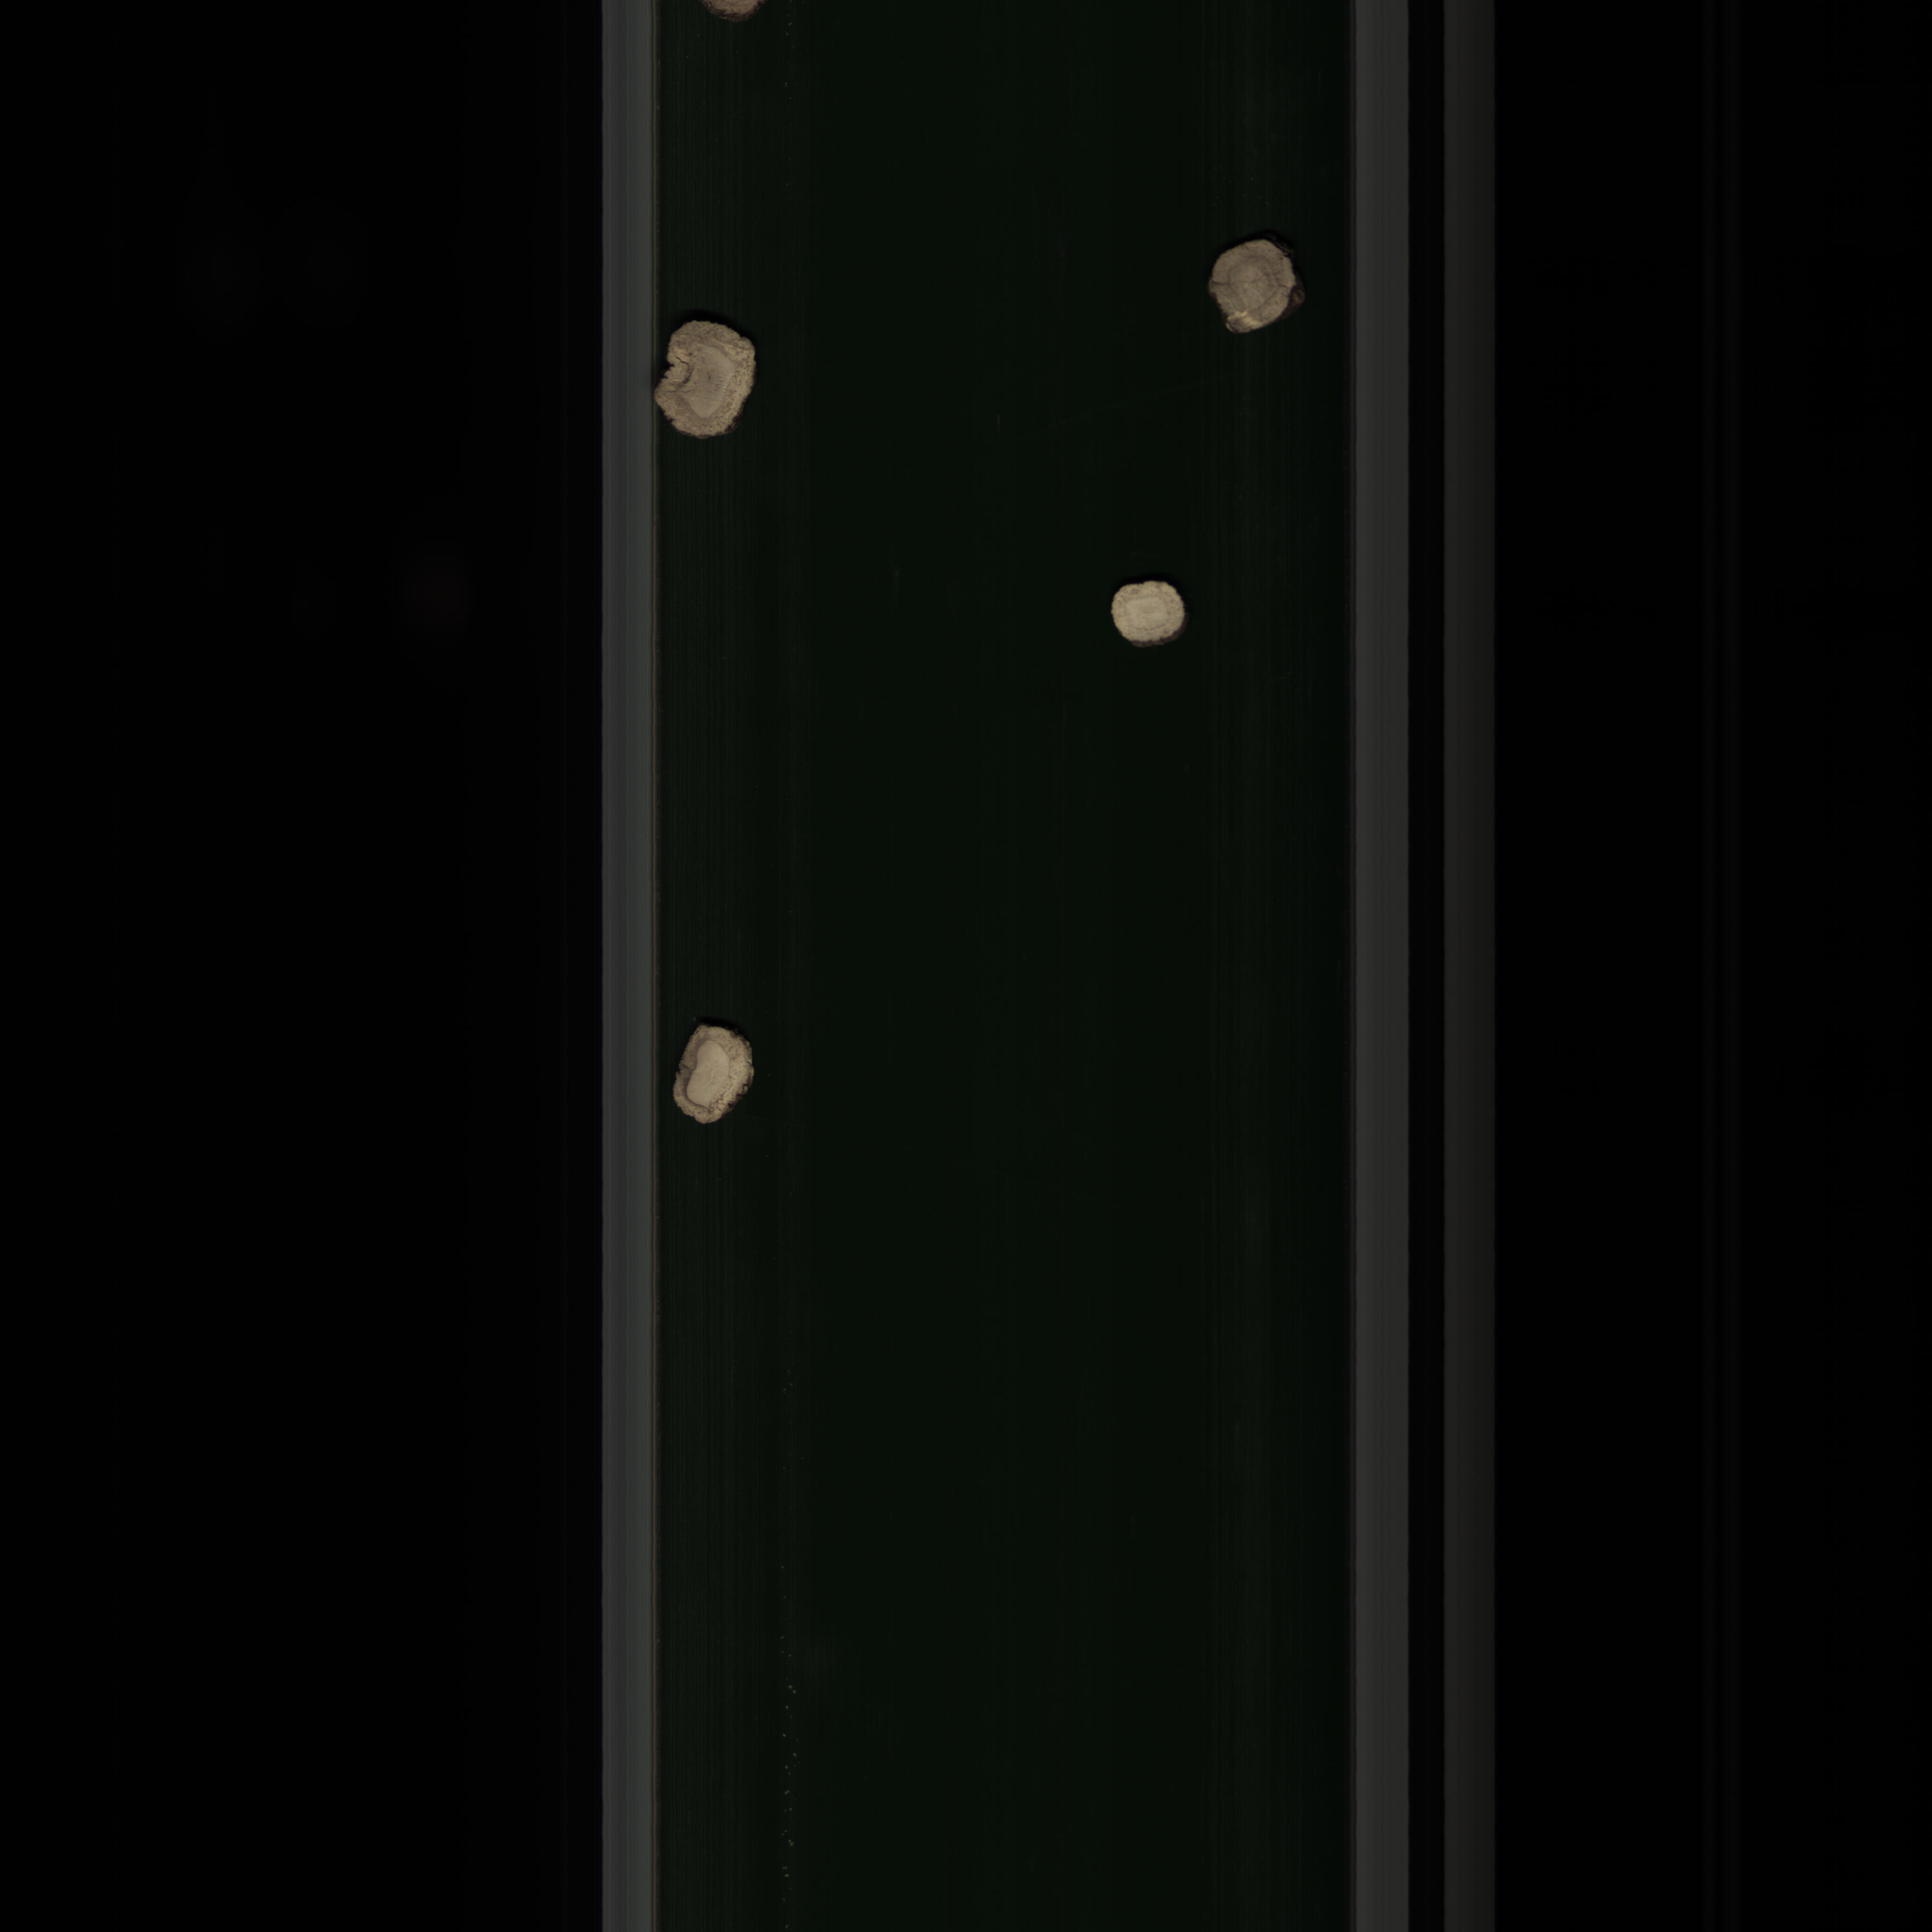distortion: (655, 317, 770, 449)
